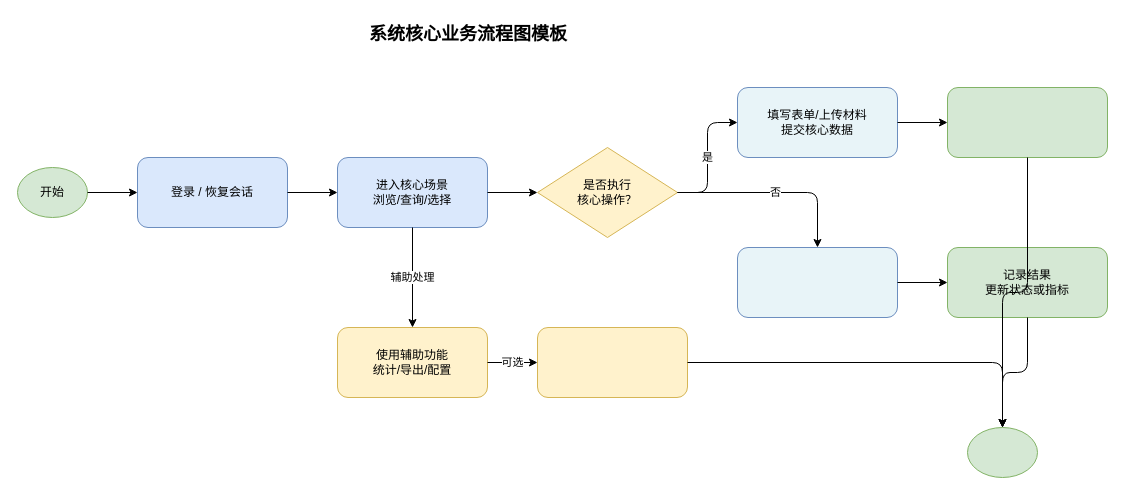
This 1125x495 diagram has some shape labels left out. Here are the shapes that lost their labels. From the top down, the centre of each, then its label:
the point at 1027,122: 服务端处理 保存/同步/校验
the point at 817,282: 查看/筛选/反馈/确认
the point at 612,362: 可选智能处理 推荐/预测/生成
the point at 1002,452: 结束
